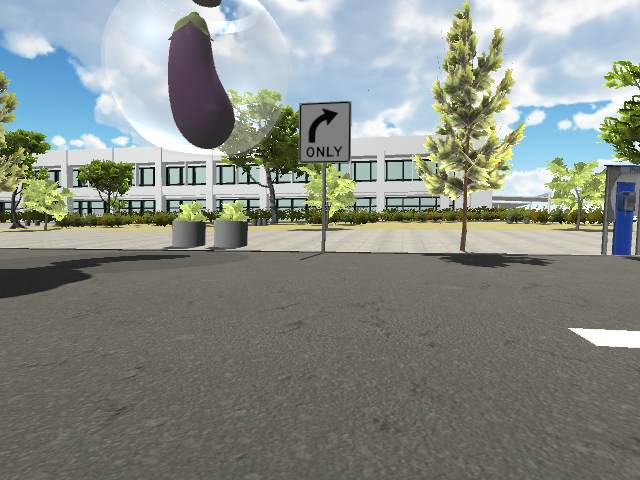arrow_right: (308, 107, 339, 144)
